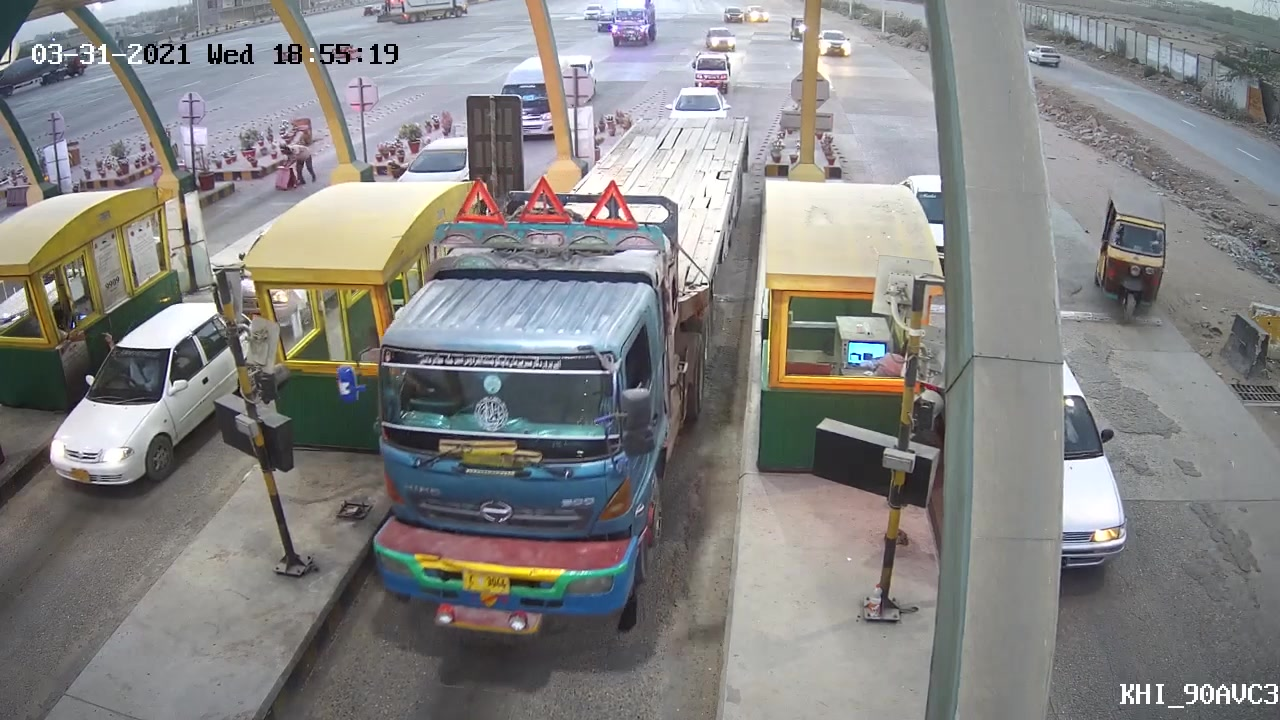F6: (352, 109, 751, 636)
